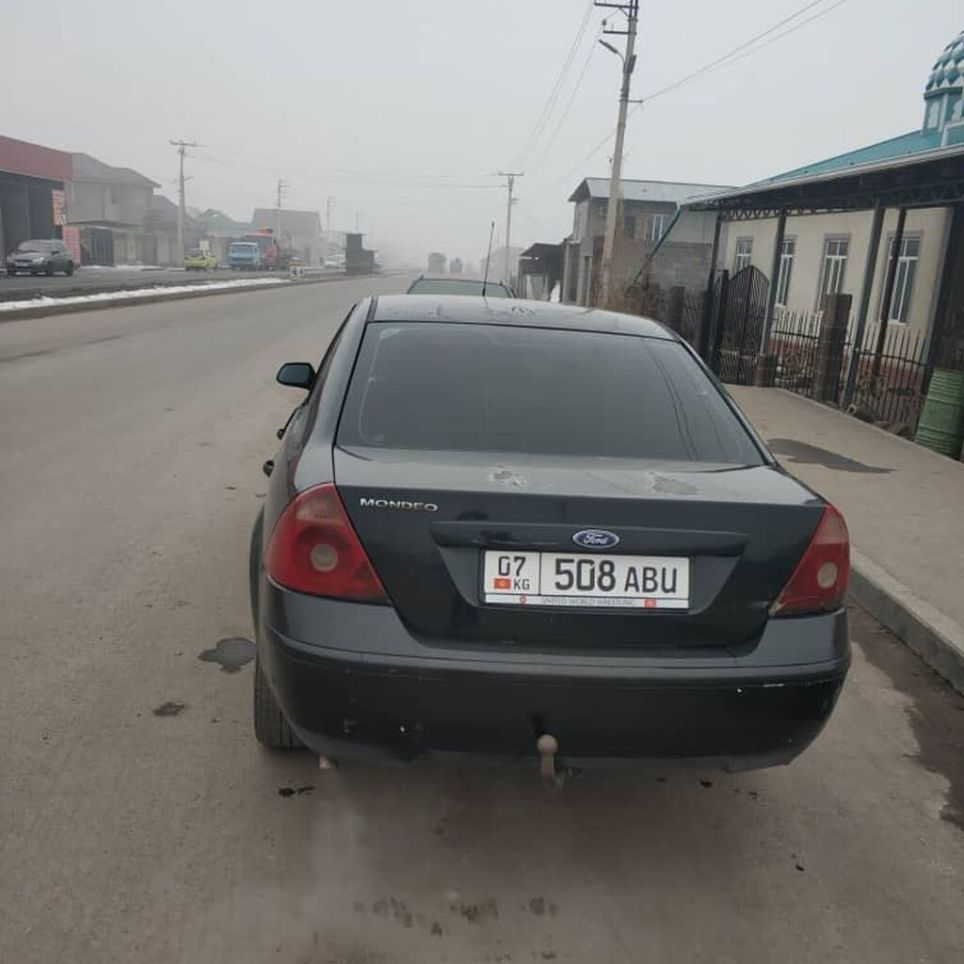license plate: (481, 546, 691, 609)
truck: (237, 289, 856, 779)
